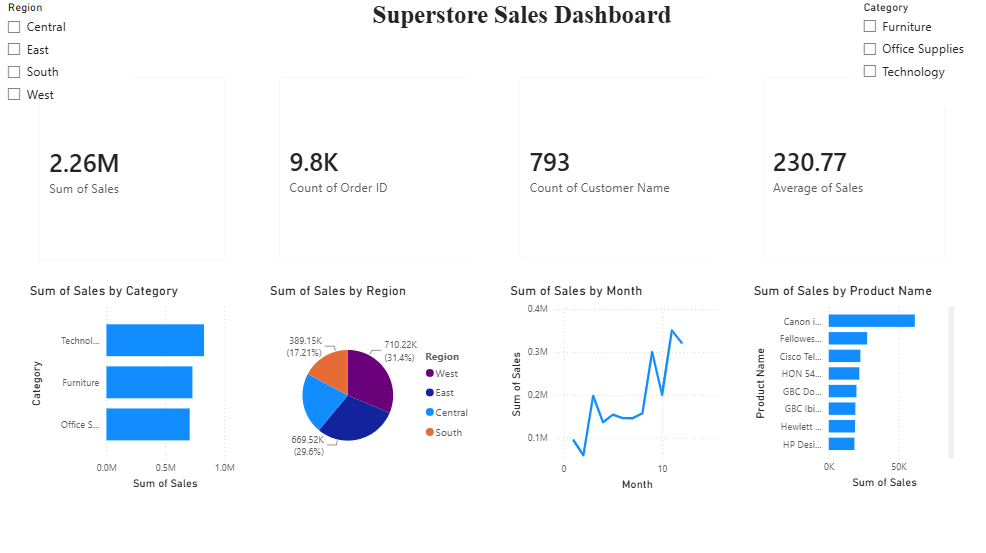

What the dashboard file says about the page in this screenshot:
{"tool":"powerbi","page":{"name":"Page 1","canvas":[1280,720],"ordinal":0},"visuals":[{"type":"cardVisual","fields":{"Data":["Sum(Sheet1.Sales)"]},"box":[36.8,88.5,275.4,271.4],"z":0},{"type":"cardVisual","fields":{"Data":["CountNonNull(Sheet1.Order ID)"]},"box":[345.7,88.5,277.4,269],"z":1000},{"type":"cardVisual","fields":{"Data":["Count(Sheet1.Customer Name)"]},"box":[656.6,88.5,279.1,269],"z":2000},{"type":"cardVisual","fields":{"Data":["Avg(Sheet1.Sales)"]},"box":[969.2,88.5,269,270.7],"z":3000},{"type":"clusteredBarChart","fields":{"Category":["Sheet1.Category"],"Y":["Sum(Sheet1.Sales)"]},"box":[36.6,369.3,275,271],"z":4000},{"type":"pieChart","fields":{"Category":["Sheet1.Region"],"Y":["Sum(Sheet1.Sales)"]},"box":[346,369.3,275.4,271.4],"z":5000},{"type":"lineChart","fields":{"Category":["Sheet1.Month"],"Y":["Sum(Sheet1.Sales)"]},"box":[655.8,369.3,279.1,272.4],"z":6000},{"type":"clusteredBarChart","fields":{"Category":["Sheet1.Product Name"],"Y":["Sum(Sheet1.Sales)"]},"box":[969.2,369.3,269,270.7],"z":7000},{"type":"slicer","fields":{"Values":["Sheet1.Region"]},"box":[0,0,174,144],"z":9000},{"type":"slicer","fields":{"Values":["Sheet1.Category"]},"box":[1103.3,0,173.3,143.3],"z":10000},{"type":"textbox","box":[436,0,480,58],"z":10001}]}

Visuals, with their boxes in screenshot pixels (x1, y1, x2, y2), scaled from the page's 1280x720 canvas onto the 986x553 screenshot:
cardVisual - Sum(Sheet1.Sales): region(28, 68, 240, 276)
cardVisual - CountNonNull(Sheet1.Order ID): region(266, 68, 480, 275)
cardVisual - Count(Sheet1.Customer Name): region(506, 68, 721, 275)
cardVisual - Avg(Sheet1.Sales): region(747, 68, 954, 276)
clusteredBarChart - Sheet1.Category x Sum(Sheet1.Sales): region(28, 284, 240, 492)
pieChart - Sheet1.Region x Sum(Sheet1.Sales): region(267, 284, 479, 492)
lineChart - Sheet1.Month x Sum(Sheet1.Sales): region(505, 284, 720, 493)
clusteredBarChart - Sheet1.Product Name x Sum(Sheet1.Sales): region(747, 284, 954, 492)
slicer - Sheet1.Region: region(0, 0, 134, 111)
slicer - Sheet1.Category: region(850, 0, 983, 110)
textbox: region(336, 0, 706, 45)
